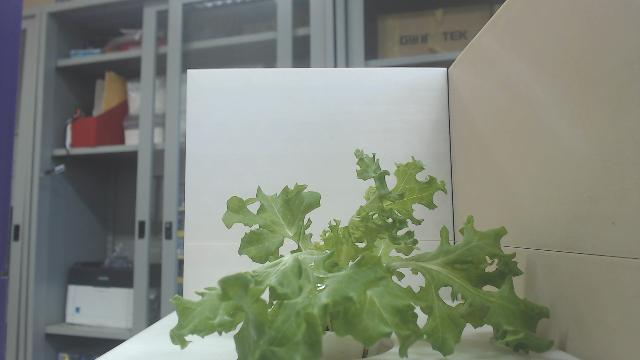Harvest Stage: (169, 148, 555, 360)
